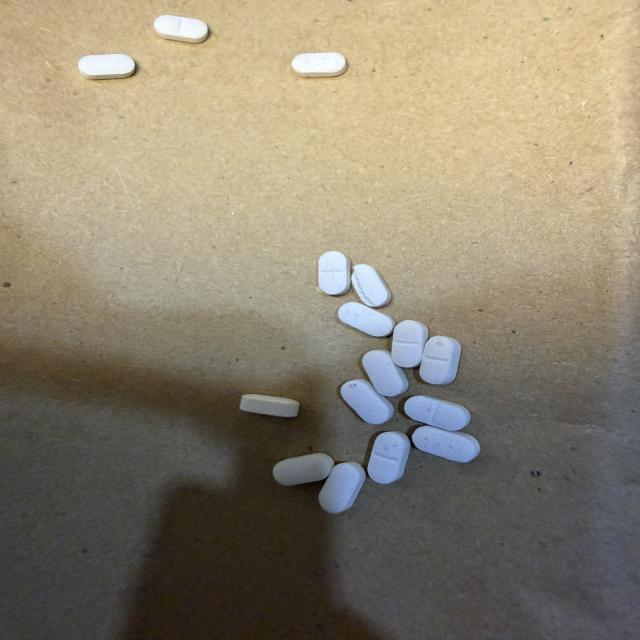pill: (413, 426, 480, 462), (341, 379, 394, 424), (319, 462, 365, 513), (405, 396, 470, 430), (368, 431, 410, 483), (362, 350, 408, 396), (273, 453, 334, 485), (420, 336, 460, 384), (338, 303, 395, 336), (392, 320, 428, 367), (352, 264, 391, 307), (154, 15, 208, 43), (79, 54, 135, 79), (319, 251, 350, 295), (240, 394, 299, 417), (293, 53, 346, 77)
